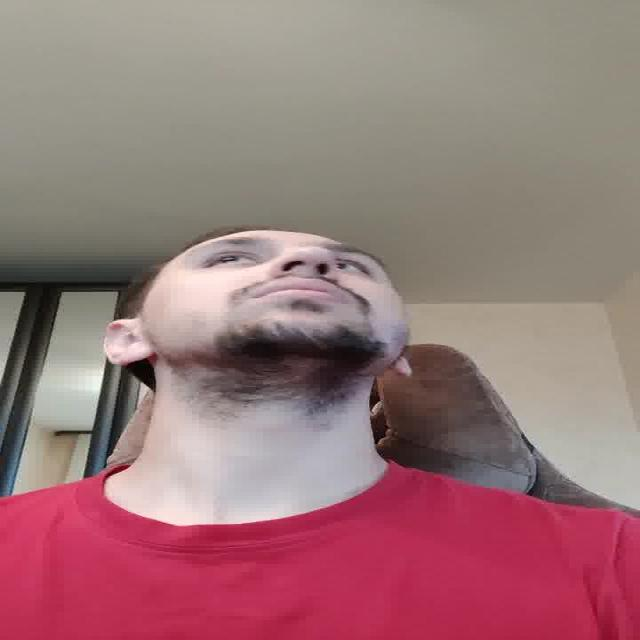earlobe: (104, 318, 156, 367)
